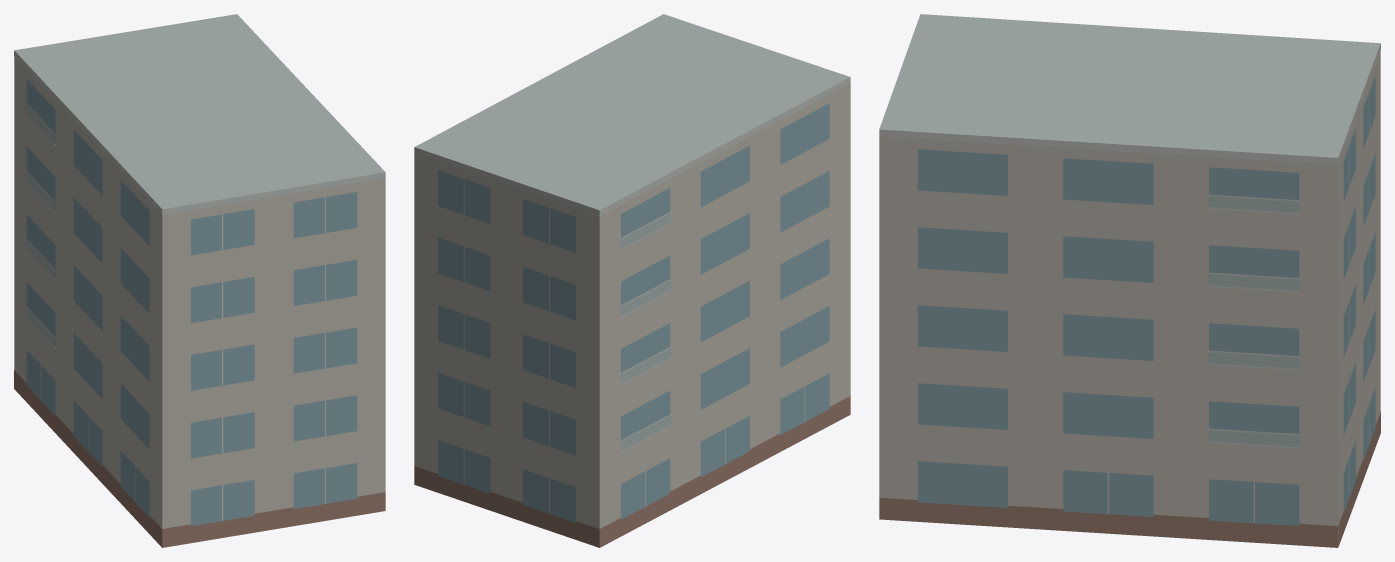
The model's file is survey-upis-32670154.glb.
3 views of the same model, side by side, from view 1: azimuth 30°, elevation 25°; view 2: azimuth 150°, elevation 25°; view 3: azimuth 270°, elevation 25° (orthographic). The views are drawn at different scales.
Visible parts, largest first — view 1: survey-upis-32670154.tmp; view 2: survey-upis-32670154.tmp; view 3: survey-upis-32670154.tmp.
Boxes of the visible parts, box(x1,y1,x2,y2) form: survey-upis-32670154.tmp: box(14, 14, 385, 547); survey-upis-32670154.tmp: box(414, 14, 850, 547); survey-upis-32670154.tmp: box(879, 14, 1380, 547).
Bounding box in the file's own units: 10.86 × 13.7 × 15.98.
